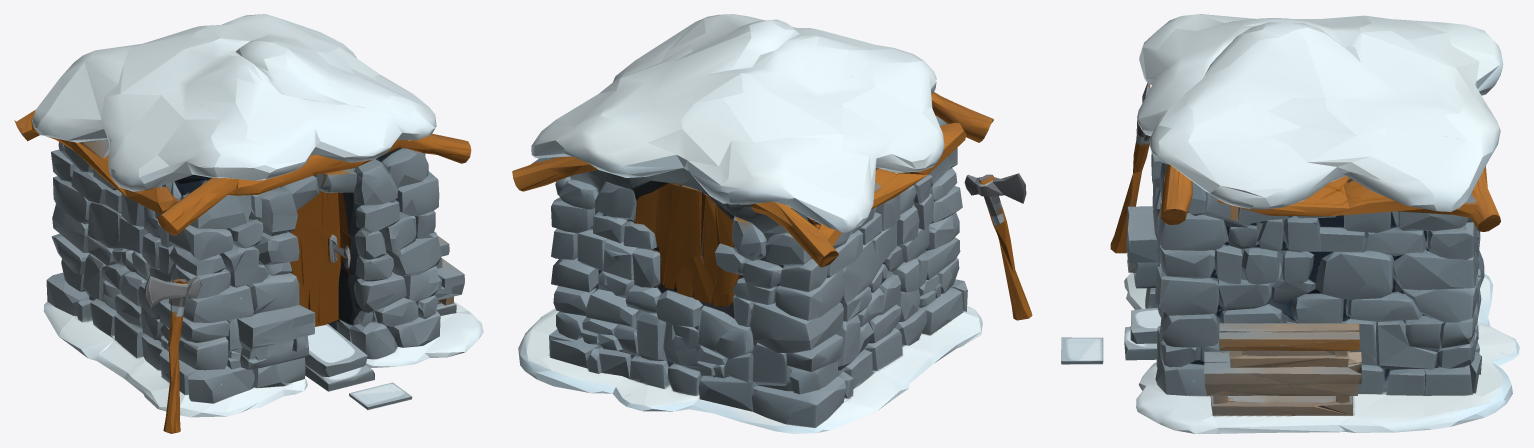
The model's file is quarry_lodge.glb.
3 views of the same model, side by side, from view 1: azimuth 30°, elevation 25°; view 2: azimuth 150°, elevation 25°; view 3: azimuth 270°, elevation 25° (orthographic). The views are drawn at different scales.
Size of the model in its own units: 1.71 by 1.32 by 1.73.
Materials: 1 (1 with a texture image).
